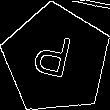P_S: (34, 30, 79, 88)
